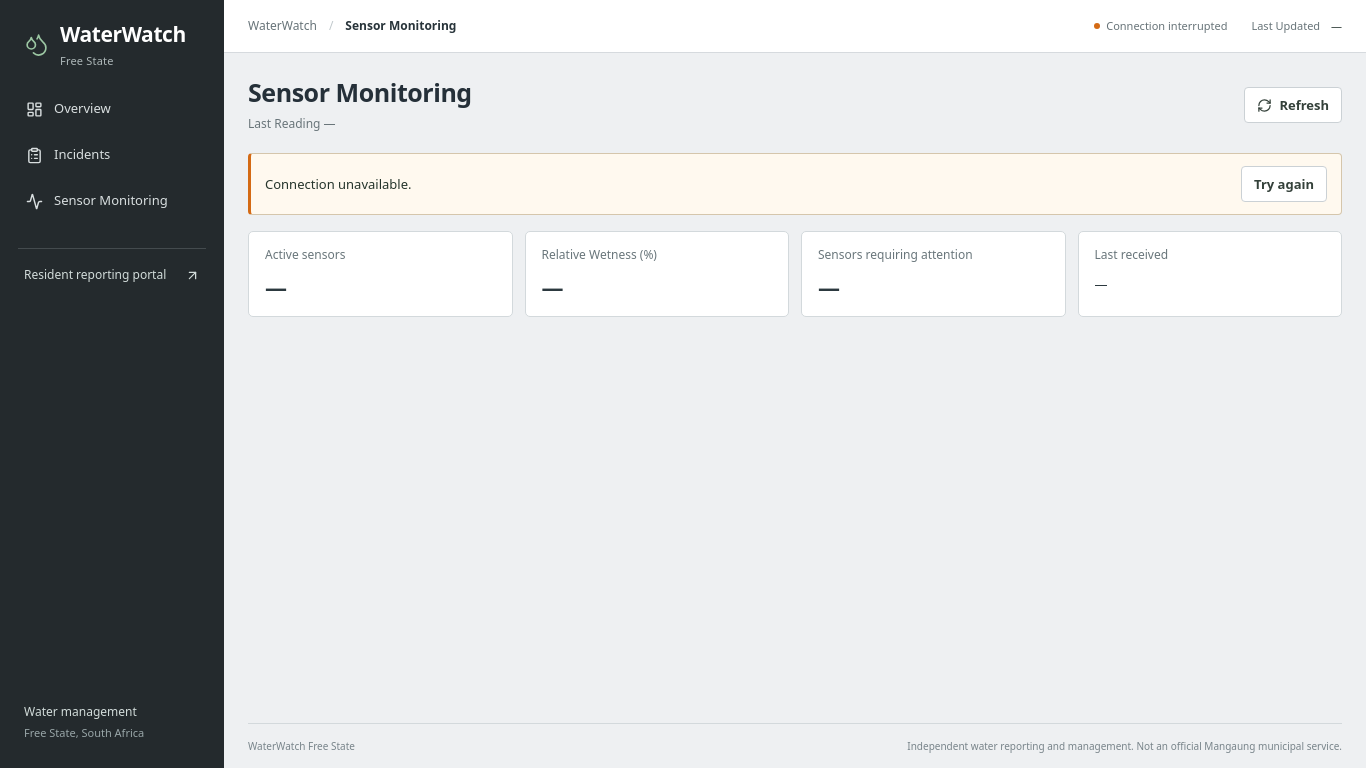
it: sensor monitoring › shows fetch failures and supports retry
Check: the message shows "Connection unavailable.", box [265,175,412,193]
What coordinates should you click on to do the following:
click the button "Try again"
I would click on:
 (1284, 184)
Its box is [1241,166,1327,202].
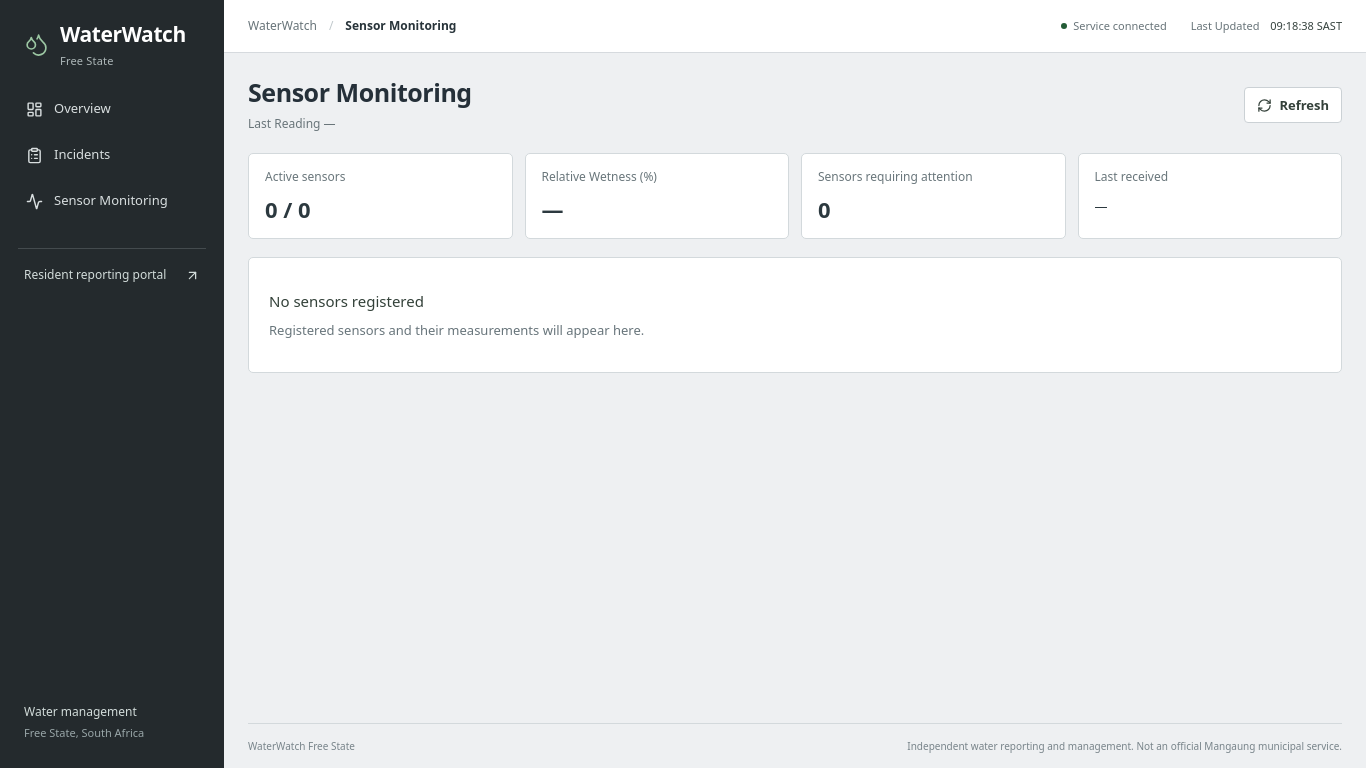
Check: the heading "No sensors registered" is shown, box [269,291,424,311]
